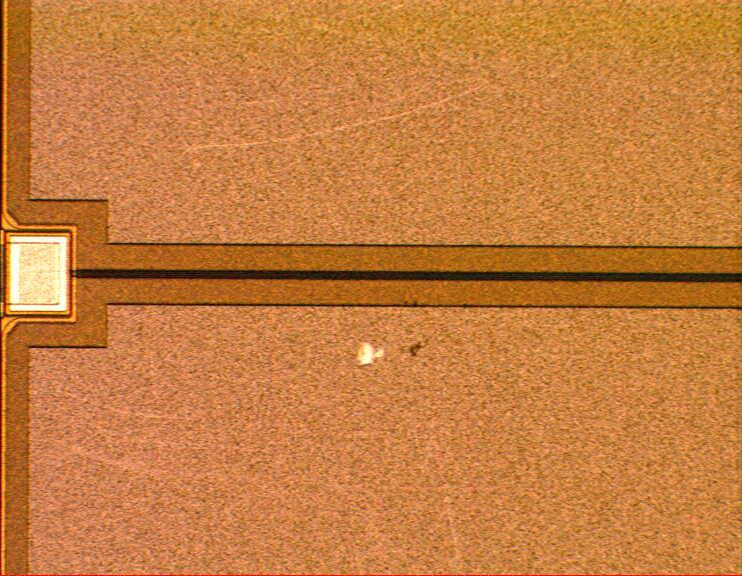SCRATCH: (160, 55, 534, 379)
